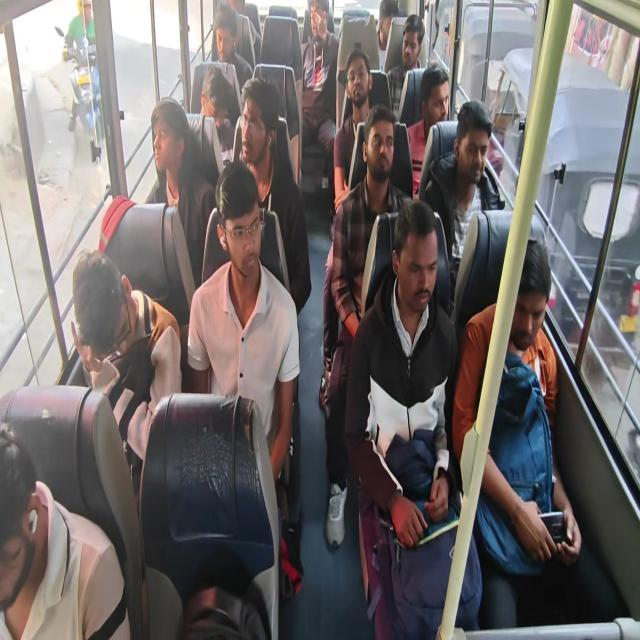person: (0, 412, 43, 612), (72, 255, 138, 359), (215, 176, 271, 282), (393, 215, 439, 323), (504, 234, 550, 339), (237, 87, 274, 165), (362, 118, 400, 189), (457, 114, 493, 179), (199, 59, 229, 133), (156, 106, 186, 168), (212, 12, 240, 63), (424, 77, 450, 131), (304, 2, 328, 46), (346, 62, 374, 96), (402, 23, 421, 68), (381, 6, 399, 46)
